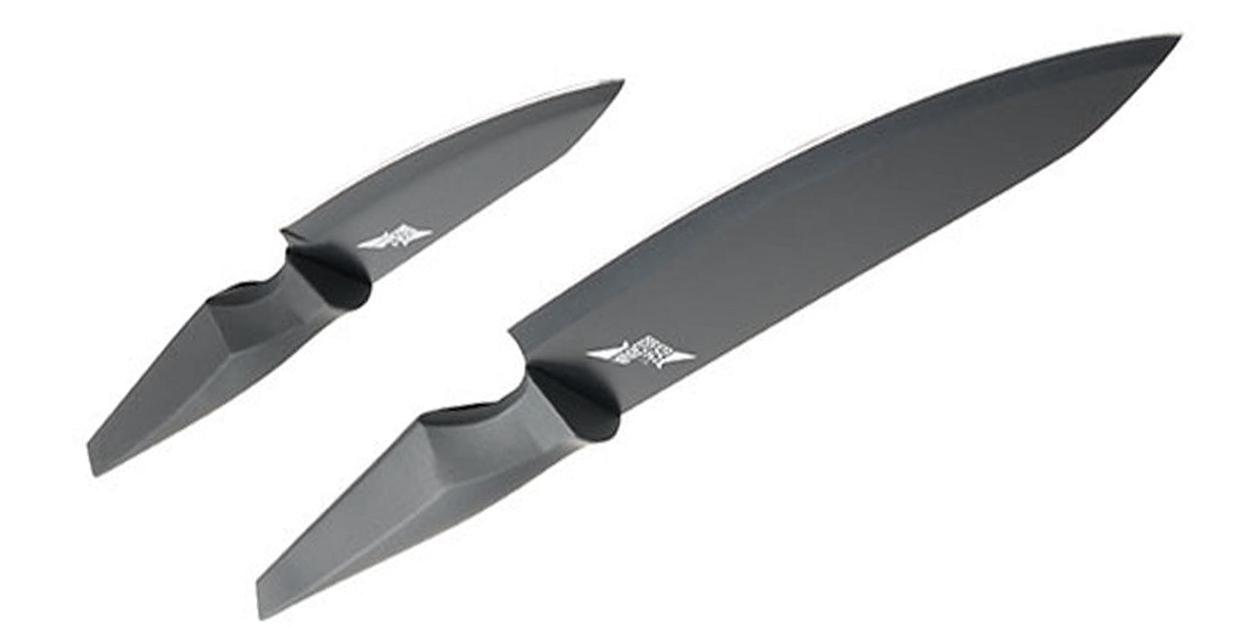knife: (255, 27, 1182, 630), (87, 76, 629, 482)
